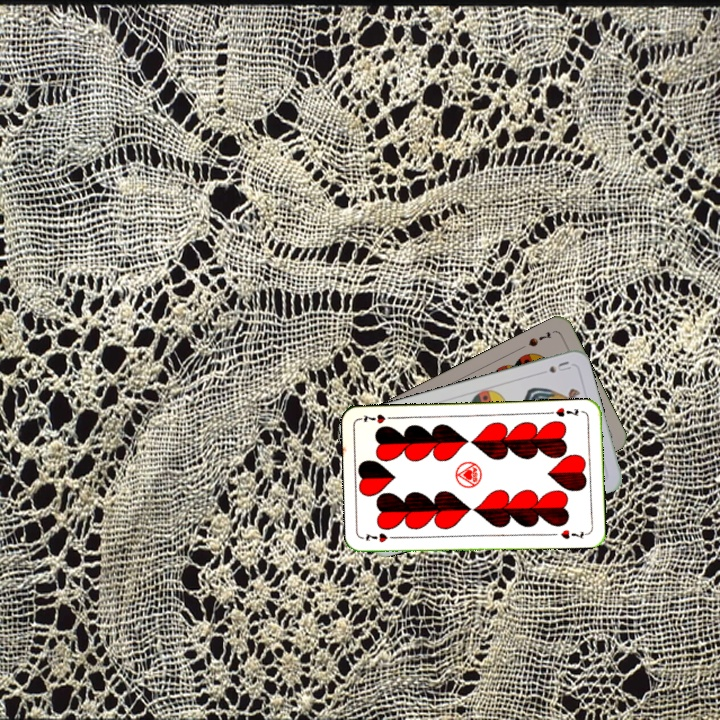H7: (362, 529, 400, 545), (552, 404, 581, 419)
S7: (524, 328, 554, 349)
SU: (534, 357, 574, 378)
